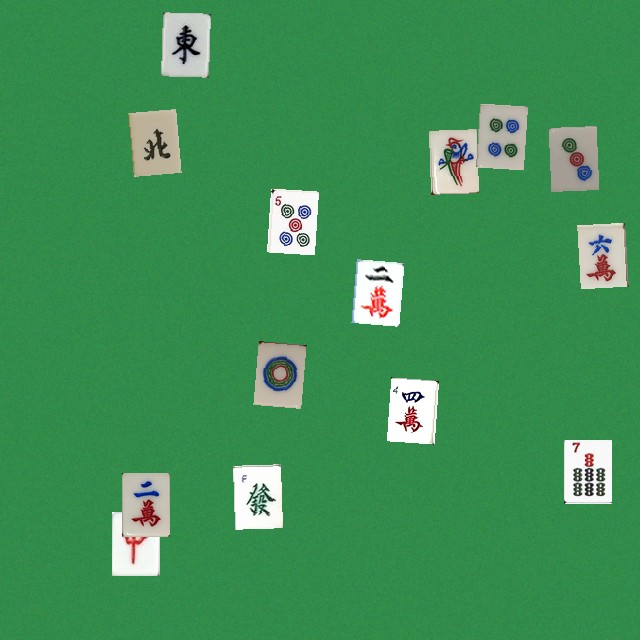tile: (428, 129, 476, 193), (128, 109, 176, 173), (563, 439, 611, 503), (111, 511, 159, 575), (232, 464, 280, 528), (386, 377, 434, 441), (475, 103, 523, 167), (351, 259, 399, 323), (577, 222, 625, 286), (161, 12, 209, 76), (266, 188, 314, 252), (253, 341, 301, 405), (548, 126, 596, 190), (121, 472, 169, 536)
